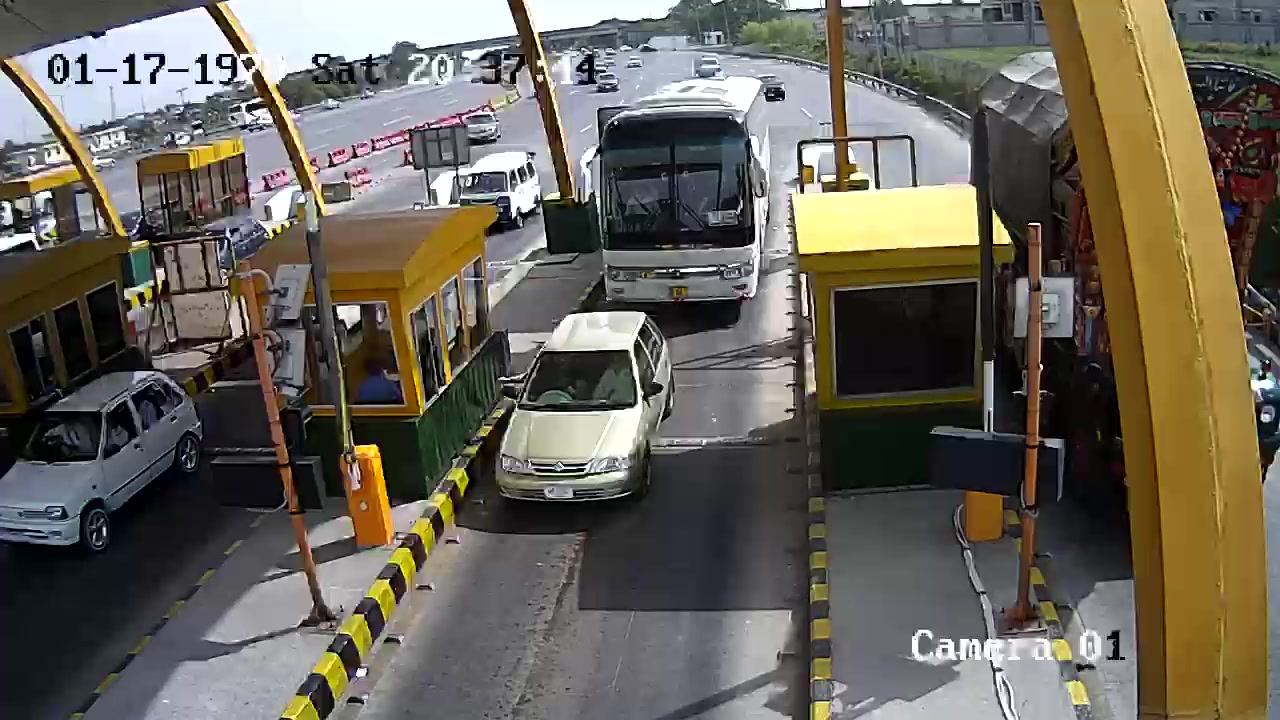F1: (488, 307, 685, 540)
F4: (579, 68, 773, 312)
